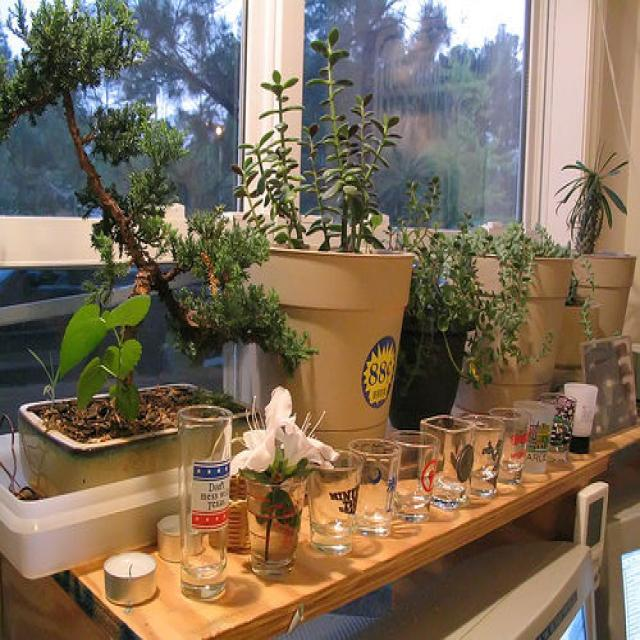pottedplant: (1, 1, 321, 501), (230, 28, 415, 469), (385, 177, 498, 431), (444, 211, 574, 412), (553, 136, 637, 339), (552, 267, 603, 387)
